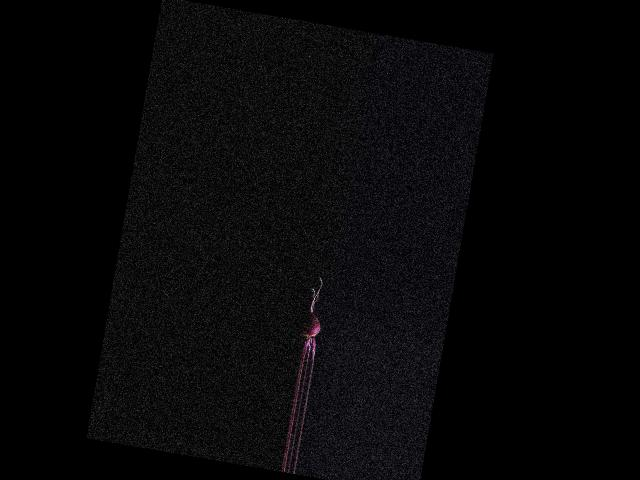beet: (292, 275, 330, 363)
